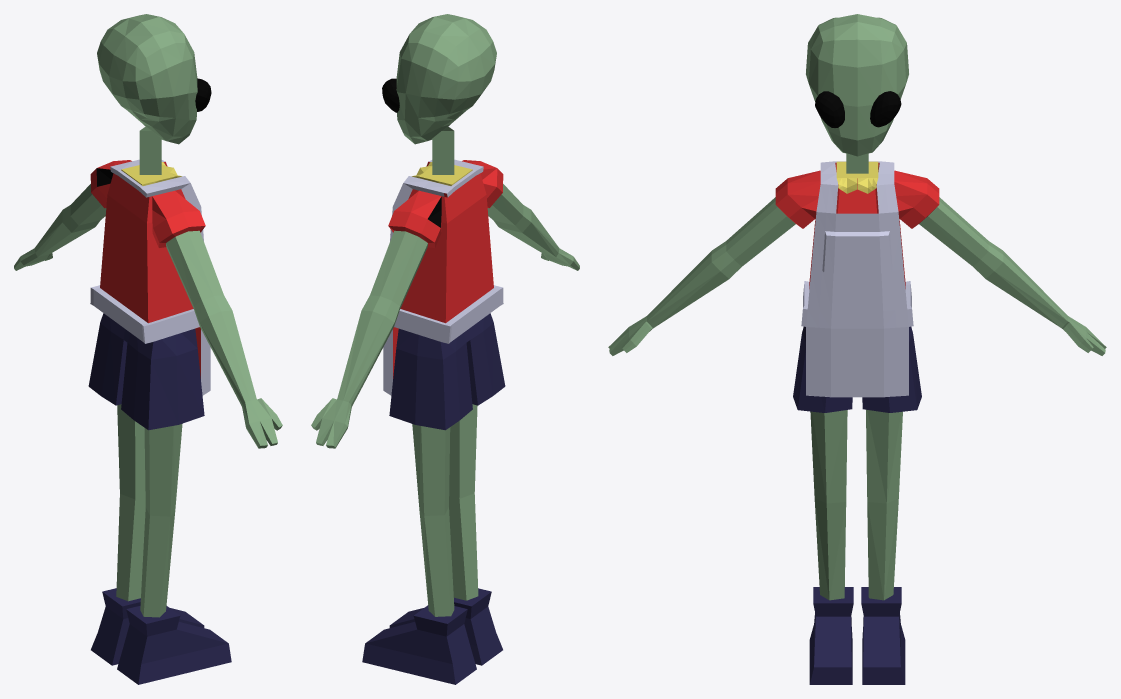
Rendered from alien.fbx.
The picture shows the model from 3 angles, left to right: view 1: azimuth 30°, elevation 25°; view 2: azimuth 150°, elevation 25°; view 3: azimuth 270°, elevation 25°; orthographic projection.
Visible parts, largest first — view 1: cabeza.001; view 2: cabeza.001; view 3: cabeza.001.
Part boxes in pixels (left/top/right/bottom): cabeza.001: left=14, top=14, right=282, bottom=684; cabeza.001: left=311, top=14, right=579, bottom=684; cabeza.001: left=608, top=14, right=1106, bottom=684.
Size of the model in its own units: 154 by 951 by 672.
